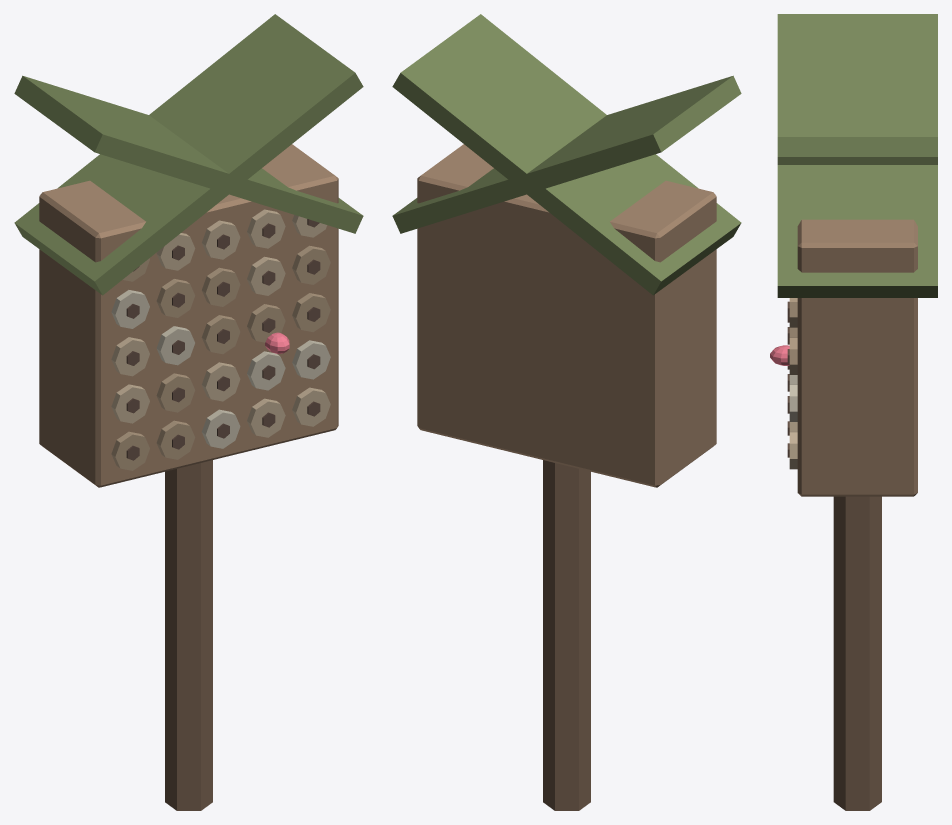
File: BugHotel.fbx
3 views of the same model, side by side, from view 1: azimuth 30°, elevation 25°; view 2: azimuth 150°, elevation 25°; view 3: azimuth 270°, elevation 25° (orthographic).
Visible parts, largest first — view 1: Prop_BugHotel; view 2: Prop_BugHotel; view 3: Prop_BugHotel.
Part boxes in pixels (x1,y1,x2,y2): Prop_BugHotel: (14,14,363,810); Prop_BugHotel: (392,14,741,810); Prop_BugHotel: (770,14,937,810).
Bounding box in the file's own units: 0.774 × 2 × 0.419.
